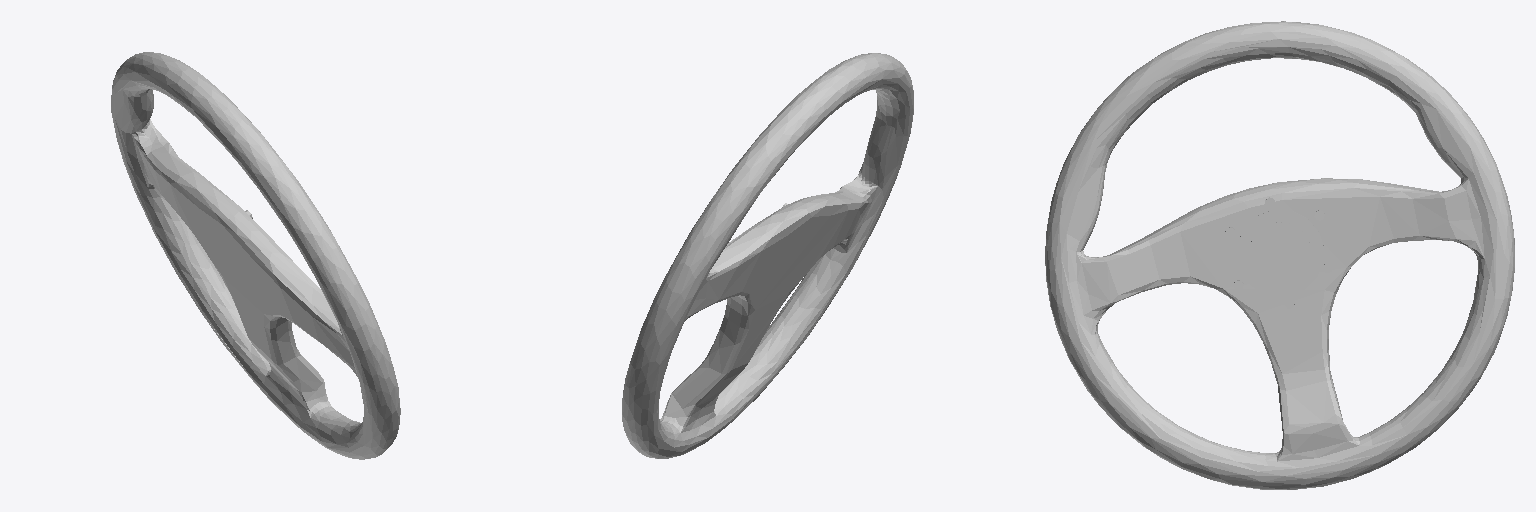
File: Steer.obj
3 views of the same model, side by side, from view 1: azimuth 30°, elevation 25°; view 2: azimuth 150°, elevation 25°; view 3: azimuth 270°, elevation 25° (orthographic).
Parts seen in each view (by area): view 1: Rotate_Steer_Touareg.002; view 2: Rotate_Steer_Touareg.002; view 3: Rotate_Steer_Touareg.002.
Part boxes in pixels (left/top/right/bottom): Rotate_Steer_Touareg.002: left=111, top=52, right=400, bottom=459; Rotate_Steer_Touareg.002: left=622, top=53, right=913, bottom=458; Rotate_Steer_Touareg.002: left=1045, top=21, right=1514, bottom=489.
Bounding box in the file's own units: 153 × 356 × 379.